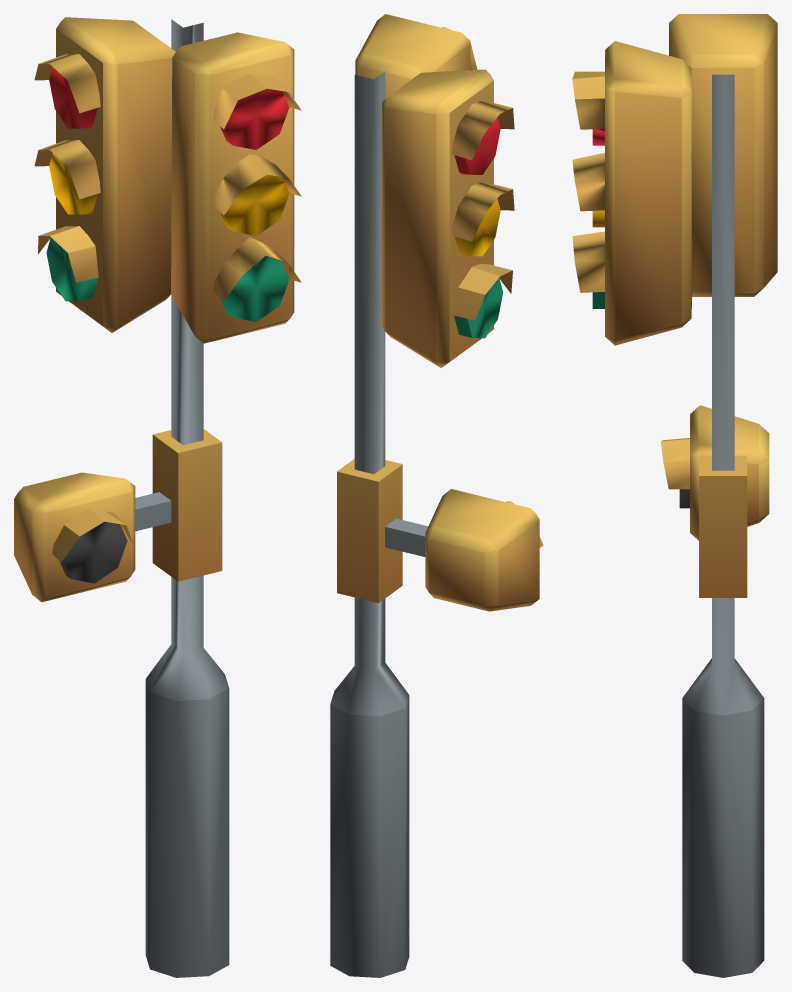
The model's file is trafficlight.glb.
The picture shows the model from 3 angles, left to right: view 1: azimuth 30°, elevation 25°; view 2: azimuth 150°, elevation 25°; view 3: azimuth 270°, elevation 25°; orthographic projection. The views are drawn at different scales.
Visible parts, largest first — view 1: trafficlight_A, trafficlight2, trafficlight1, trafficlight3; view 2: trafficlight_A, trafficlight1, trafficlight3, trafficlight2; view 3: trafficlight_A, trafficlight2, trafficlight1, trafficlight3.
Boxes of the visible parts, x1,y1,x2,y2 form: trafficlight_A: [145, 19, 229, 977]; trafficlight2: [171, 32, 301, 343]; trafficlight1: [34, 17, 175, 332]; trafficlight3: [14, 472, 171, 602]; trafficlight_A: [330, 71, 409, 977]; trafficlight1: [382, 69, 514, 367]; trafficlight3: [385, 489, 543, 611]; trafficlight2: [355, 14, 477, 98]; trafficlight_A: [682, 74, 764, 977]; trafficlight2: [572, 41, 692, 345]; trafficlight1: [669, 14, 777, 296]; trafficlight3: [661, 405, 769, 540].
Bounding box in the file's own units: 0.1744 × 0.7295 × 0.1506.
Materials: 5 (1 with a texture image).
